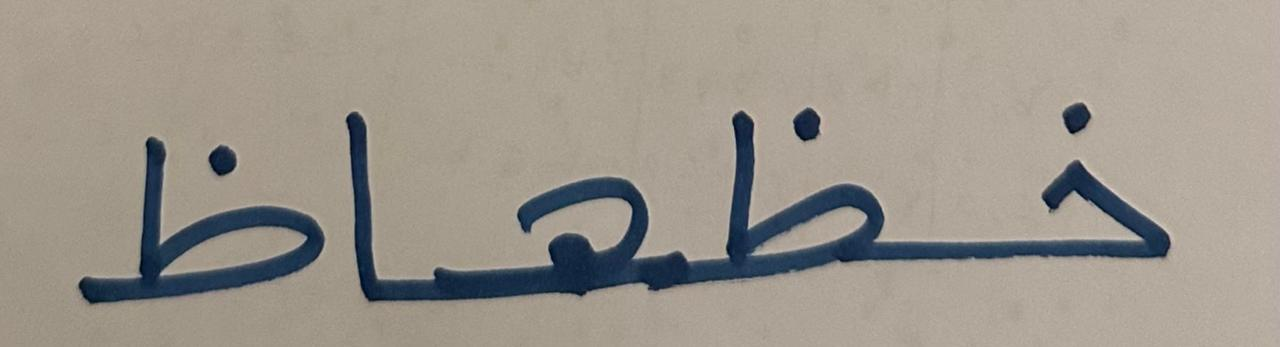alef: (333, 52, 437, 330)
jeem: (441, 93, 681, 331)
lam: (925, 36, 1204, 308)
zain: (52, 62, 330, 325), (684, 39, 917, 314)
